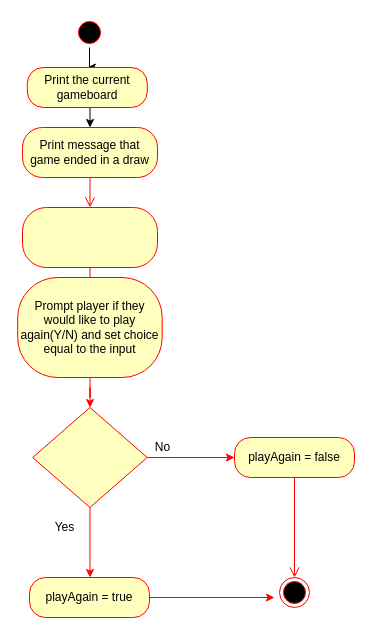
This 372x635 diagram has some shape labels left out. The shapes that lost their labels are listed below. From the top down, each one's centre as x and y in pixels, then its label:
At (x=90, y=237): "Declare char varible choice".
At (x=89, y=457): "Does choice = Y?".
